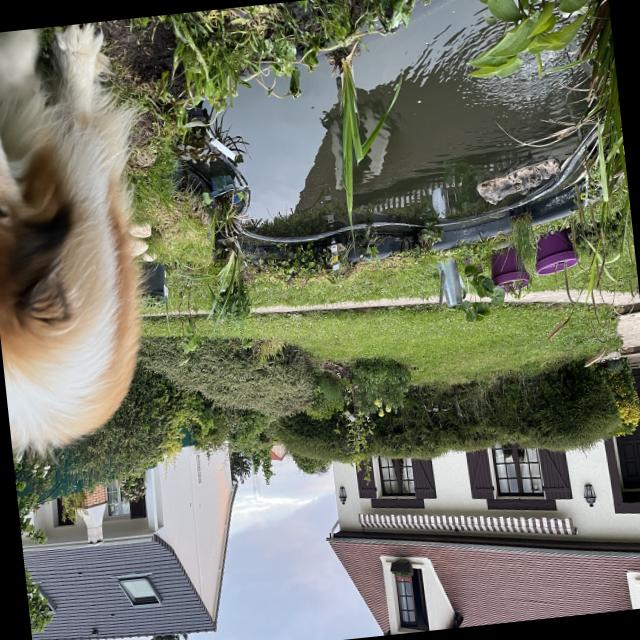Dog: (0, 19, 165, 483)
